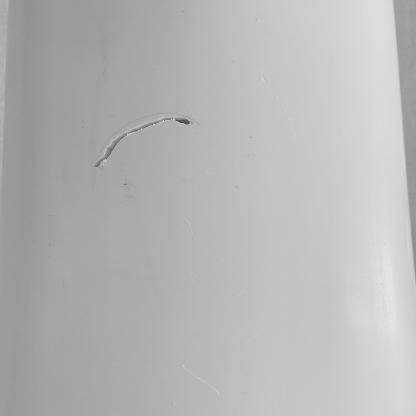fengxi: (92, 115, 193, 168)
